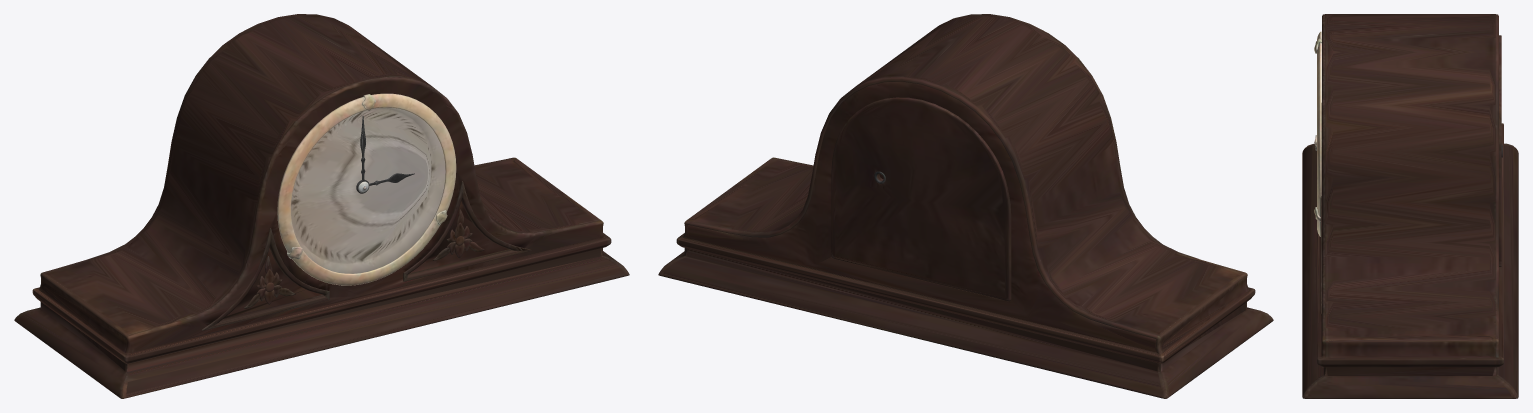
The model's file is mantel-clock-01.glb.
The picture shows the model from 3 angles, left to right: view 1: azimuth 30°, elevation 25°; view 2: azimuth 150°, elevation 25°; view 3: azimuth 270°, elevation 25°; orthographic projection.
Parts seen in each view (by area): view 1: mantel_clock_01; view 2: mantel_clock_01; view 3: mantel_clock_01.
Boxes of the visible parts, x1=… form: mantel_clock_01: x1=14, y1=14, x2=629, y2=398; mantel_clock_01: x1=658, y1=14, x2=1273, y2=398; mantel_clock_01: x1=1302, y1=14, x2=1518, y2=398.
Bounding box in the file's own units: 0.3423 × 0.1605 × 0.1262.
Materials: 2 (2 with a texture image).
